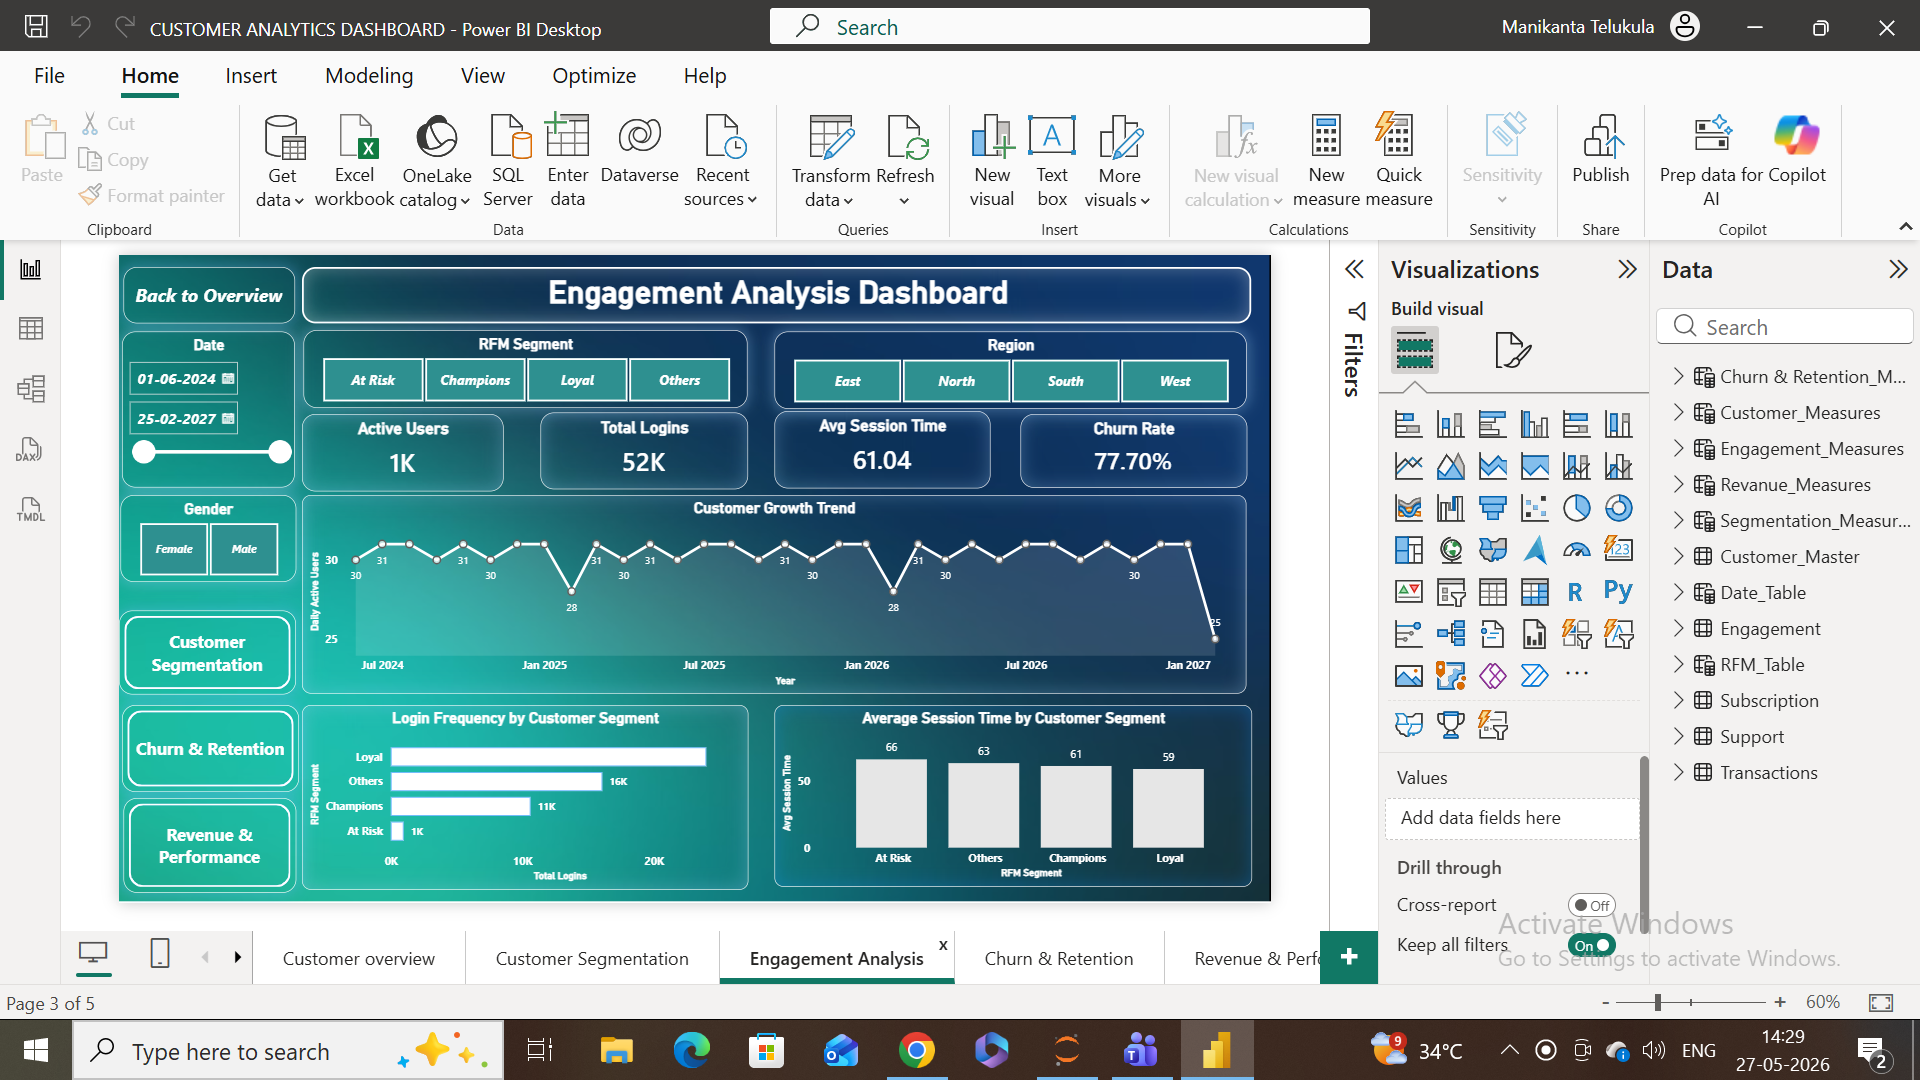

The dashboard page shown, as its layout file describes it:
{"tool":"powerbi","page":{"name":"Engagement Analysis","canvas":[1280,720],"ordinal":2},"visuals":[{"type":"actionButton","box":[4.2,12.6,190.8,62.9],"z":0},{"type":"actionButton","box":[0,395,196.7,93.3],"z":1000},{"type":"cardVisual","title":"Active Users","fields":{"Data":["Customer_Measures.Total_Customers"]},"box":[203.4,176.4,224.1,85.8],"z":2000},{"type":"cardVisual","title":"Total Logins","fields":{"Data":["Customer_Measures.Total Logins"]},"box":[468.7,175.7,230.6,85],"z":3000},{"type":"cardVisual","title":"Avg Session Time","fields":{"Data":["Customer_Measures.Avg Session Time"]},"box":[728,173.2,240,85.8],"z":4000},{"type":"cardVisual","title":"Churn Rate","fields":{"Data":["Churn & Retention_Measures.Churn Rate"]},"box":[1002.5,176.2,251.7,81.8],"z":5000},{"type":"textbox","title":"Engagement Analysis Dashboard","box":[203.4,12.6,1054.9,62.9],"z":6000},{"type":"slicer","title":"Date","fields":{"Values":["Engagement.LastActivityDate"]},"box":[3.1,84.4,192.2,173.5],"z":7000},{"type":"lineChart","title":"Customer Growth Trend","fields":{"Y":["Engagement.Daily Active Users"],"Category":["Engagement.LastActivityDate.Variation.Date Hierarchy.Year","Engagement.LastActivityDate.Variation.Date Hierarchy.Quarter","Engagement.LastActivityDate.Variation.Date Hierarchy.Month"]},"box":[203.4,267,1049,220.9],"z":8000},{"type":"slicer","title":"Region","fields":{"Values":["Customer_Master.Region"]},"box":[728,85.8,524.5,85.8],"z":9000},{"type":"barChart","title":"Login Frequency by Customer Segment","fields":{"Category":["RFM_Table.RFM Segment"],"Y":["Customer_Measures.Total Logins"]},"box":[203.4,500.7,495.9,205],"z":10000},{"type":"clusteredColumnChart","title":"Average Session Time by Customer Segment","fields":{"Y":["Customer_Measures.Avg Session Time"],"Category":["RFM_Table.RFM Segment"]},"box":[728,500.7,530.9,201.9],"z":11000},{"type":"actionButton","box":[3.3,500,196.7,96.7],"z":12000},{"type":"actionButton","box":[5,603.3,191.7,105],"z":13000},{"type":"slicer","title":"Gender","fields":{"Values":["Customer_Master.Gender"]},"box":[1.7,266.7,195,96.7],"z":14000},{"type":"slicer","title":"RFM Segment","fields":{"Values":["RFM_Table.RFM Segment"]},"box":[205,83.3,493.3,86.7],"z":15000}]}

Visuals, with their boxes on the page's 1280x720 design canvas (x1, y1, x2, y2). These are canvas units, not pixel positions in the 1920x1080 screenshot, which may show the page scaled, cropped or inside an application window:
actionButton: bbox=(4, 13, 195, 76)
actionButton: bbox=(0, 395, 197, 488)
"Active Users" cardVisual: bbox=(203, 176, 428, 262)
"Total Logins" cardVisual: bbox=(469, 176, 699, 261)
"Avg Session Time" cardVisual: bbox=(728, 173, 968, 259)
"Churn Rate" cardVisual: bbox=(1002, 176, 1254, 258)
"Engagement Analysis Dashboard" textbox: bbox=(203, 13, 1258, 76)
"Date" slicer: bbox=(3, 84, 195, 258)
"Customer Growth Trend" lineChart: bbox=(203, 267, 1252, 488)
"Region" slicer: bbox=(728, 86, 1252, 172)
"Login Frequency by Customer Segment" barChart: bbox=(203, 501, 699, 706)
"Average Session Time by Customer Segment" clusteredColumnChart: bbox=(728, 501, 1259, 703)
actionButton: bbox=(3, 500, 200, 597)
actionButton: bbox=(5, 603, 197, 708)
"Gender" slicer: bbox=(2, 267, 197, 363)
"RFM Segment" slicer: bbox=(205, 83, 698, 170)
